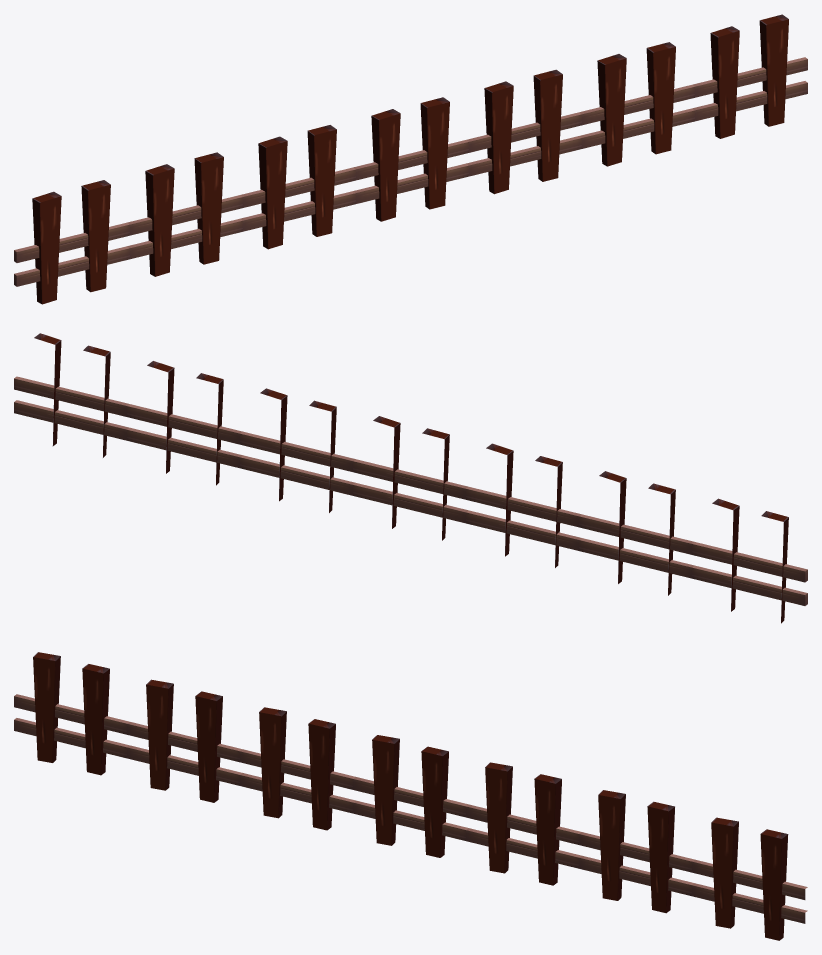
The model's file is fence_1.gltf.
3 views of the same model, one above another, from view 1: azimuth 30°, elevation 25°; view 2: azimuth 150°, elevation 25°; view 3: azimuth 330°, elevation 25° (orthographic).
Parts seen in each view (by area): view 1: Fence1Mesh; view 2: Fence1Mesh; view 3: Fence1Mesh.
Boxes of the visible parts, box(x1,y1,x2,y2) form: Fence1Mesh: box(14, 14, 807, 304); Fence1Mesh: box(14, 333, 807, 623); Fence1Mesh: box(14, 652, 807, 940).
Size of what is drawn, in the model's own units: 7 by 0.883 by 0.1103.
Materials: 1 (1 with a texture image).
